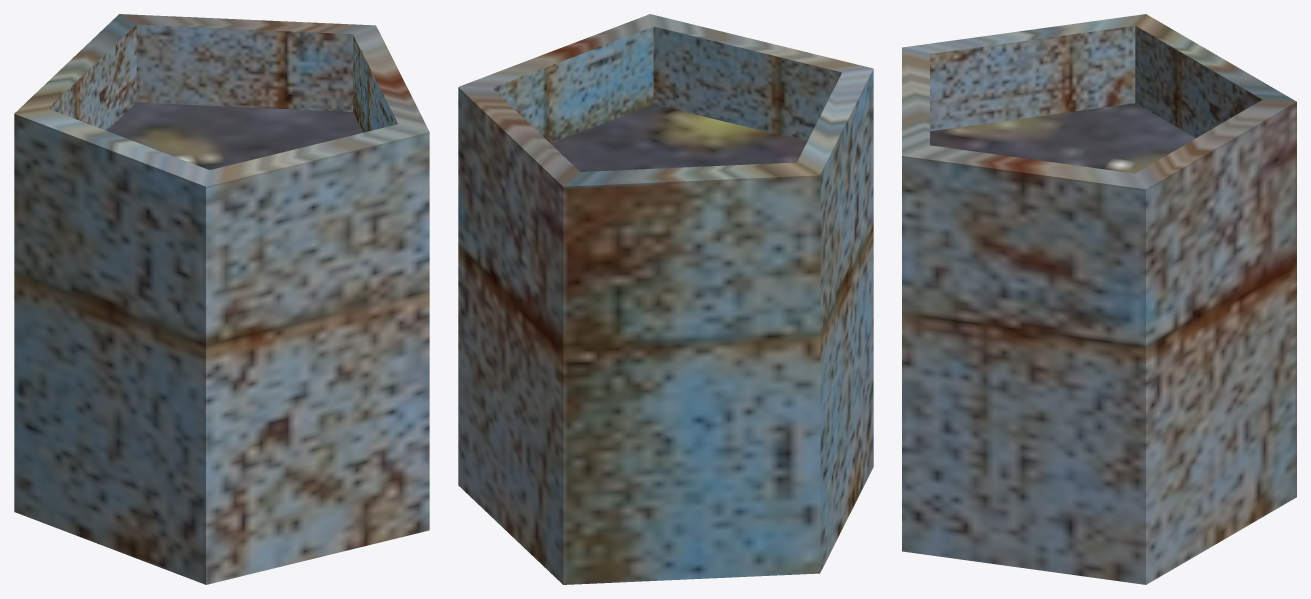
The model's file is barrelfixed.gltf.
3 views of the same model, side by side, from view 1: azimuth 30°, elevation 25°; view 2: azimuth 150°, elevation 25°; view 3: azimuth 270°, elevation 25° (orthographic).
Parts seen in each view (by area): view 1: Cylinder; view 2: Cylinder; view 3: Cylinder.
Part boxes in pixels (<box>): Cylinder: <box>14,14,429,584</box>; Cylinder: <box>458,14,873,584</box>; Cylinder: <box>902,14,1296,584</box>.
Size of the model in its own units: 1.9 by 2.01 by 1.81.
Materials: 2 (2 with a texture image).
